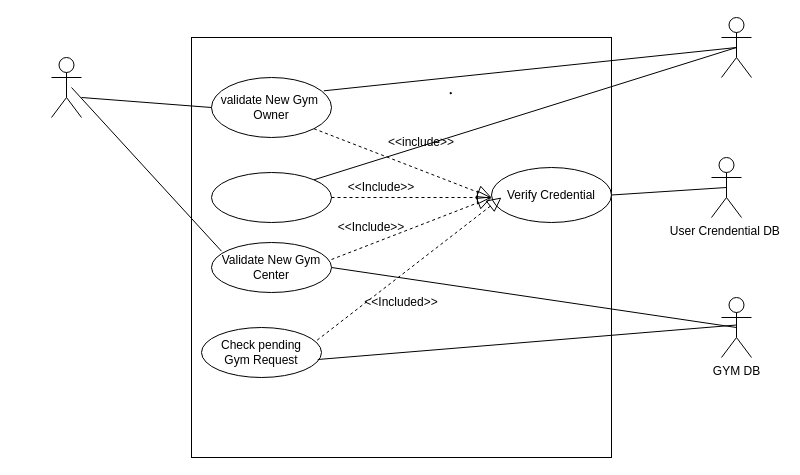
The diagram is 800 pixels wide and 475 high, and some of its shapes have lost their labels. The shapes that lost their labels are listed below. From the top down, each one's centre as x and y in pixels, then its label:
At (736,47): "Gym Owner DB".
At (66,87): "Gym Administrator".
At (271,197): "check pending Gym Owner".
